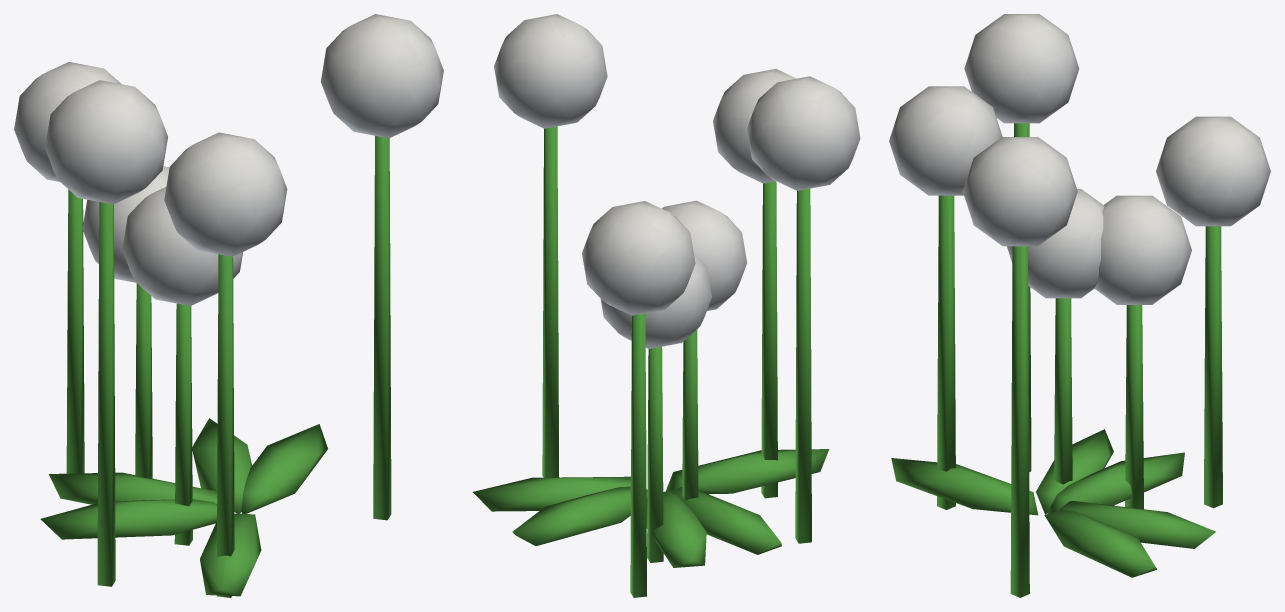
The model's file is flowers_yellow.glb.
3 renders of one model, left to right at view 1: azimuth 30°, elevation 25°; view 2: azimuth 150°, elevation 25°; view 3: azimuth 270°, elevation 25°, orthographic. The views are drawn at different scales.
Parts seen in each view (by area): view 1: Flowers; view 2: Flowers; view 3: Flowers.
Part boxes in pixels (x1=…): Flowers: x1=14, y1=14, x2=443, y2=597; Flowers: x1=473, y1=14, x2=860, y2=597; Flowers: x1=889, y1=14, x2=1270, y2=597.
Size of the model in its own units: 0.4166 by 0.5233 by 0.3983.
